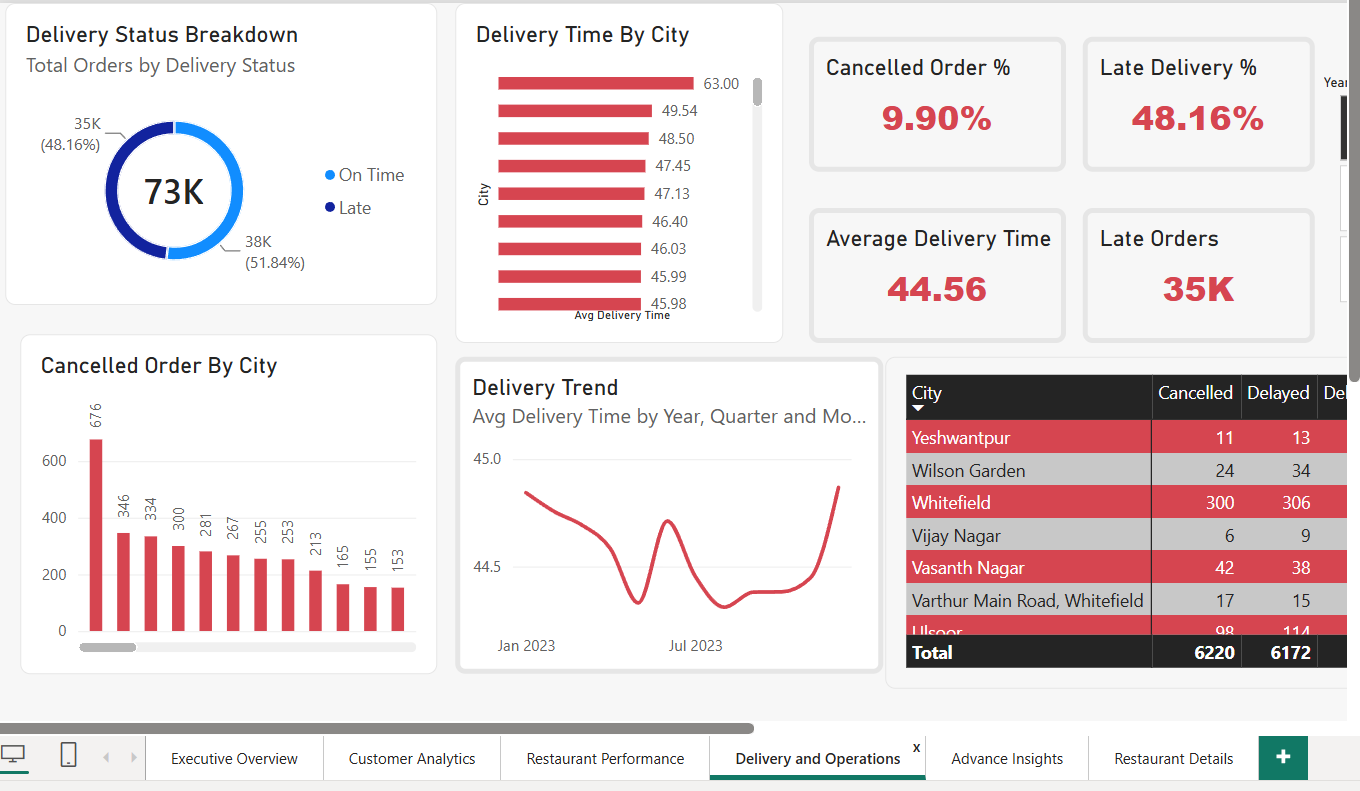

The page's visual inventory and layout, read from the dashboard file:
{"tool":"powerbi","page":{"name":"Delivery and Operations","canvas":[1920,1080],"ordinal":3},"visuals":[{"type":"cardVisual","title":"Late Orders","fields":{"Data":["Orders.Late Orders"]},"box":[850,121,186,108],"z":0},{"type":"cardVisual","title":"Average Delivery Time","fields":{"Data":["Orders.Avg Delivery Time"]},"box":[638,121,206,108],"z":1000},{"type":"cardVisual","title":"Late Delivery %","fields":{"Data":["Orders.Late Delivery %"]},"box":[850,4,186,108],"z":2000},{"type":"cardVisual","title":"Cancelled Order %","fields":{"Data":["Orders.Cancellation %"]},"box":[638,4,206,108],"z":3000},{"type":"lineChart","title":"Delivery Trend","fields":{"Category":["DateTable.Date.Variation.Date Hierarchy.Year","DateTable.Date.Variation.Date Hierarchy.Quarter","DateTable.Date.Variation.Date Hierarchy.Month"],"Y":["Orders.Avg Delivery Time"]},"box":[365,283,343,254],"z":4000},{"type":"barChart","title":"Delivery Time By City","fields":{"Category":["Customers.City"],"Y":["Orders.Avg Delivery Time"]},"box":[365.4,0,262.8,271.8],"z":5000},{"type":"donutChart","title":"Delivery Status Breakdown","fields":{"Category":["Orders.Delivery Status"],"Y":["Orders.Total Orders"]},"box":[5,0,346,242],"z":6000},{"type":"columnChart","title":"Cancelled Order By City","fields":{"Category":["Customers.City"],"Y":["Orders.Cancelled Orders"]},"box":[16.7,265.4,334.6,271.8],"z":7000},{"type":"pivotTable","fields":{"Columns":["Orders.OrderStatus"],"Rows":["Customers.City"],"Values":["Orders.Total Orders"]},"box":[708.9,283.3,514.4,265.6],"z":8000},{"type":"slicer","fields":{"Values":["DateTable.Date.Variation.Date Hierarchy.Year"]},"box":[722,238,321,54],"z":8001}]}

Visuals, with their boxes on the page's 1920x1080 design canvas (x1, y1, x2, y2). These are canvas units, not pixel positions in the 1360x791 screenshot, which may show the page scaled, cropped or inside an application window:
"Late Orders" cardVisual: bbox=[850, 121, 1036, 229]
"Average Delivery Time" cardVisual: bbox=[638, 121, 844, 229]
"Late Delivery %" cardVisual: bbox=[850, 4, 1036, 112]
"Cancelled Order %" cardVisual: bbox=[638, 4, 844, 112]
"Delivery Trend" lineChart: bbox=[365, 283, 708, 537]
"Delivery Time By City" barChart: bbox=[365, 0, 628, 272]
"Delivery Status Breakdown" donutChart: bbox=[5, 0, 351, 242]
"Cancelled Order By City" columnChart: bbox=[17, 265, 351, 537]
pivotTable - Orders.OrderStatus x Customers.City: bbox=[709, 283, 1223, 549]
slicer - DateTable.Date.Variation.Date Hierarchy.Year: bbox=[722, 238, 1043, 292]
